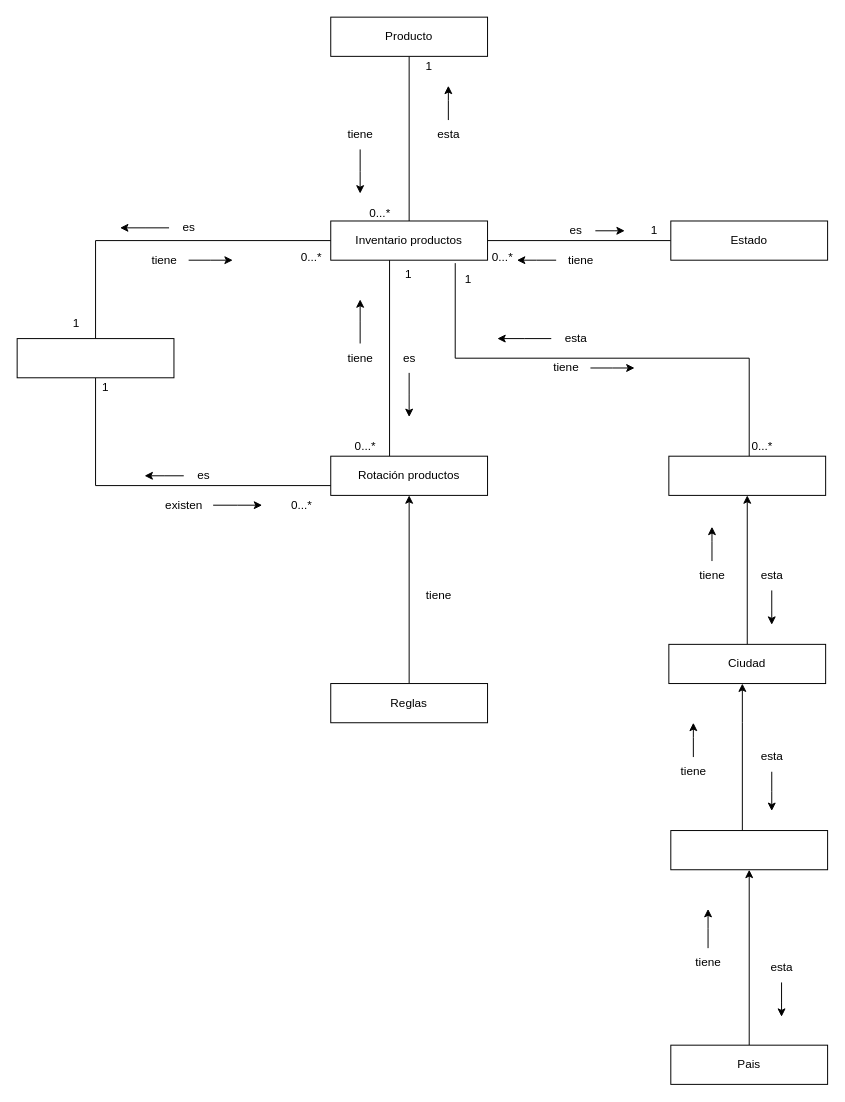
Some shapes in this 845 by 1102 pixel diagram are drawn without their labels. The shapes that lost their labels are listed below. From the top down, each one's centre as x and y in pixels, then its label:
[95,358]: Tipo rotación producto
[747,475]: Lugar Deposito
[749,850]: Departamento
